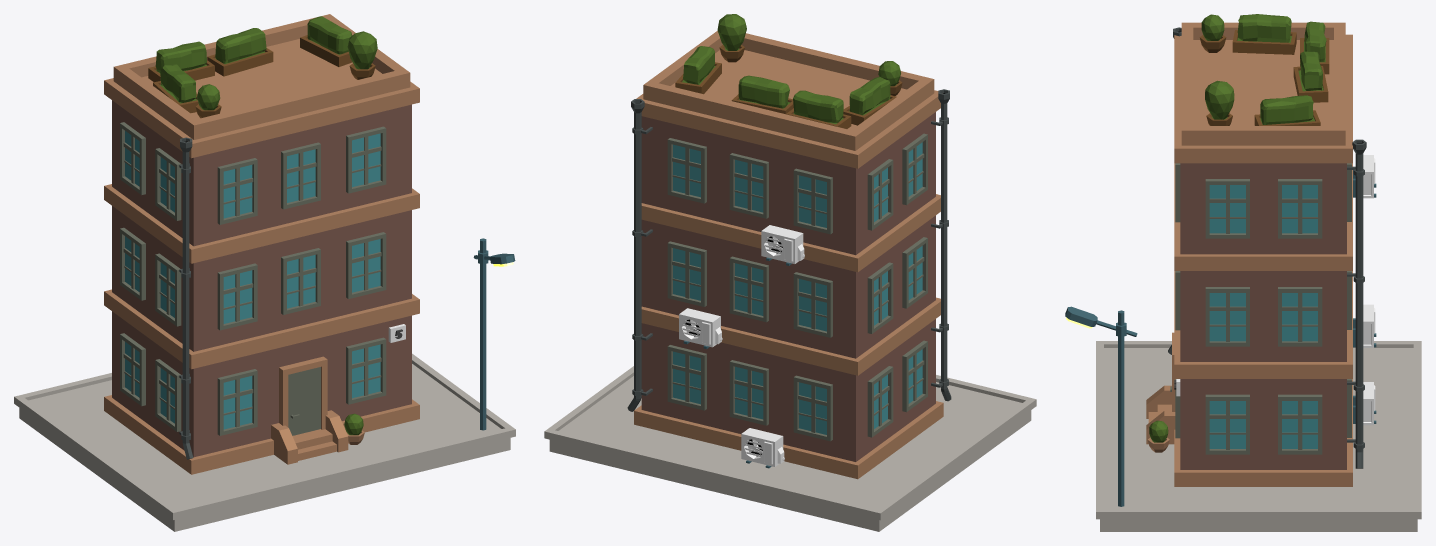
The picture shows the model from 3 angles, left to right: view 1: azimuth 30°, elevation 25°; view 2: azimuth 150°, elevation 25°; view 3: azimuth 270°, elevation 25°; orthographic projection. The views are drawn at different scales.
Visible parts, largest first — view 1: Plane102, Box15908, Box15910, Box15912, Box15904, Rectangle025, Box15909, Box15911, Box15913, Box15914, Cylinder1722, StraightStair015 (+32 smaller); view 2: Plane102, Box15908, Box15910, Box15912, Box15904, Rectangle025, Box15909, Box15914, Box15911, Box15913, Cylinder1723, Cylinder1722 (+33 smaller); view 3: Plane102, Box15904, Box15908, Box15910, Box15912, Rectangle025, Box15909, Box15913, Box15911, Box15914, Cylinder1723, street_light_008_metal_0 (+24 smaller).
Part boxes in pixels (left/top/right/bottom): Plane102: left=19, top=364, right=510, bottom=531; Box15908: left=112, top=100, right=411, bottom=246; Box15910: left=112, top=206, right=411, bottom=351; Box15912: left=112, top=311, right=411, bottom=457; Box15904: left=113, top=14, right=410, bottom=139; Rectangle025: left=14, top=353, right=515, bottom=519; Box15909: left=104, top=78, right=419, bottom=158; Box15911: left=104, top=184, right=419, bottom=263; Box15913: left=104, top=289, right=419, bottom=369; Box15914: left=104, top=395, right=419, bottom=474; Cylinder1722: left=180, top=137, right=193, bottom=459; StraightStair015: left=271, top=410, right=348, bottom=464; Plane102: left=549, top=376, right=1031, bottom=531; Box15908: left=641, top=112, right=935, bottom=255; Box15910: left=641, top=215, right=935, bottom=358; Box15912: left=641, top=319, right=935, bottom=461; Box15904: left=643, top=31, right=934, bottom=150; Rectangle025: left=544, top=366, right=1036, bottom=520; Box15909: left=636, top=90, right=940, bottom=168; Box15914: left=634, top=401, right=943, bottom=479; Box15911: left=641, top=194, right=940, bottom=272; Box15913: left=641, top=297, right=940, bottom=375; Cylinder1723: left=627, top=99, right=644, bottom=411; Cylinder1722: left=938, top=89, right=951, bottom=401; Plane102: left=1100, top=348, right=1417, bottom=531; Box15904: left=1181, top=22, right=1345, bottom=145; Box15908: left=1180, top=163, right=1346, bottom=254; Box15910: left=1180, top=271, right=1346, bottom=361; Box15912: left=1180, top=379, right=1346, bottom=469; Rectangle025: left=1096, top=341, right=1421, bottom=519; Box15909: left=1174, top=34, right=1352, bottom=163; Box15913: left=1174, top=271, right=1352, bottom=378; Box15911: left=1174, top=163, right=1352, bottom=270; Box15914: left=1174, top=379, right=1352, bottom=486; Cylinder1723: left=1352, top=139, right=1366, bottom=468; street_light_008_metal_0: left=1065, top=306, right=1137, bottom=506.
Size of the model in its own units: 10.2 by 11.26 by 8.97.
